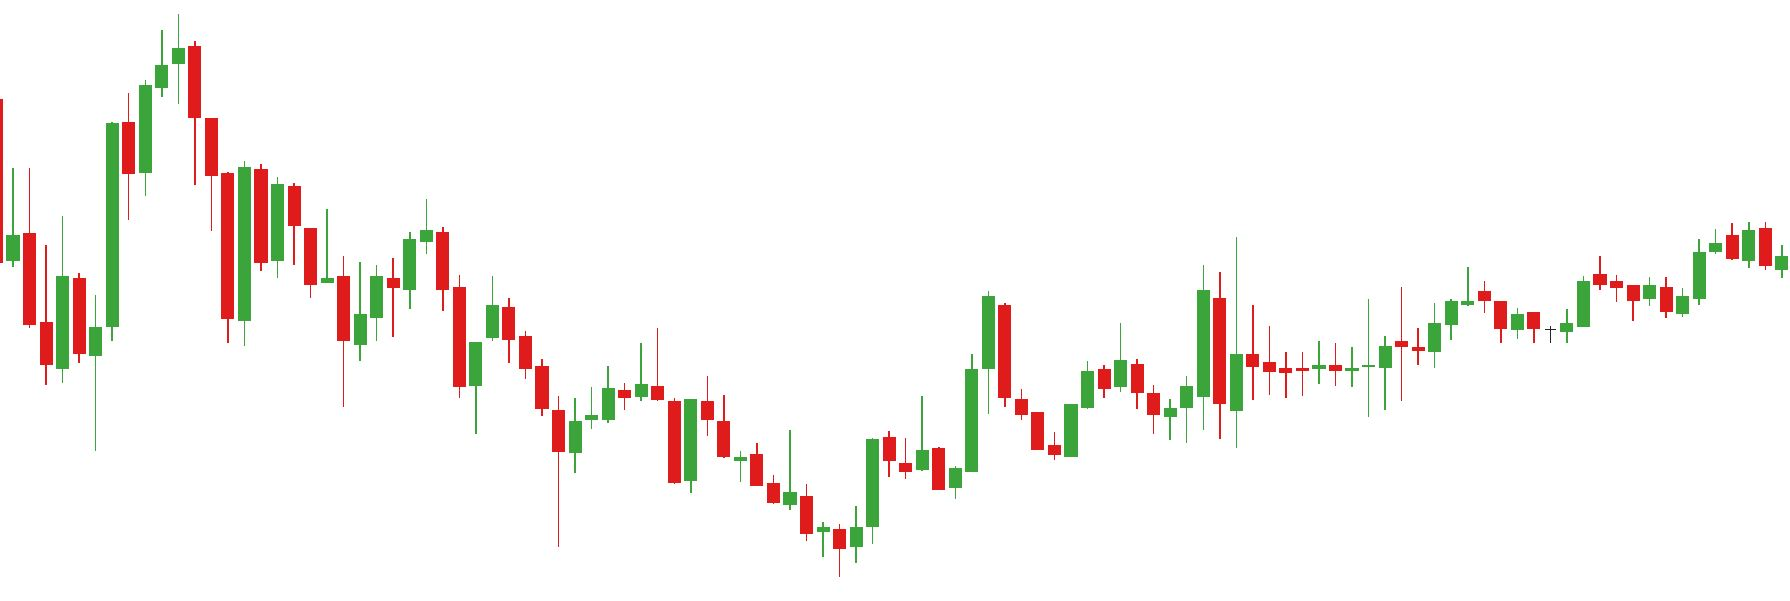sell: (321, 195, 433, 310)
